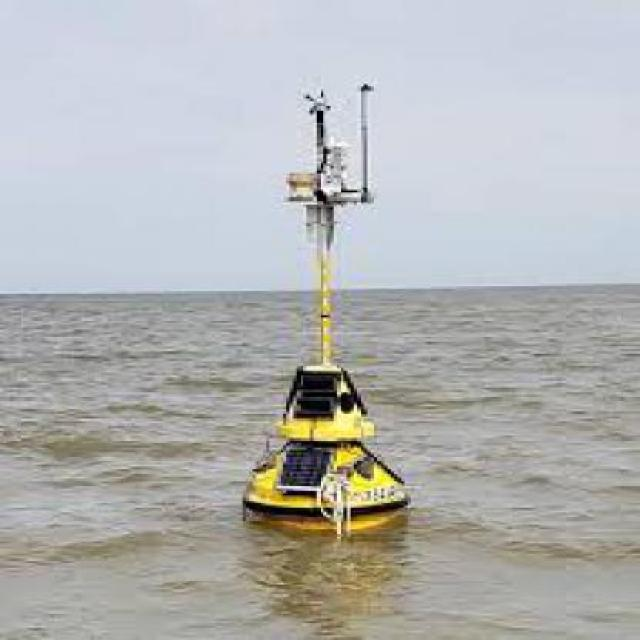buoy: (224, 285, 446, 528)
